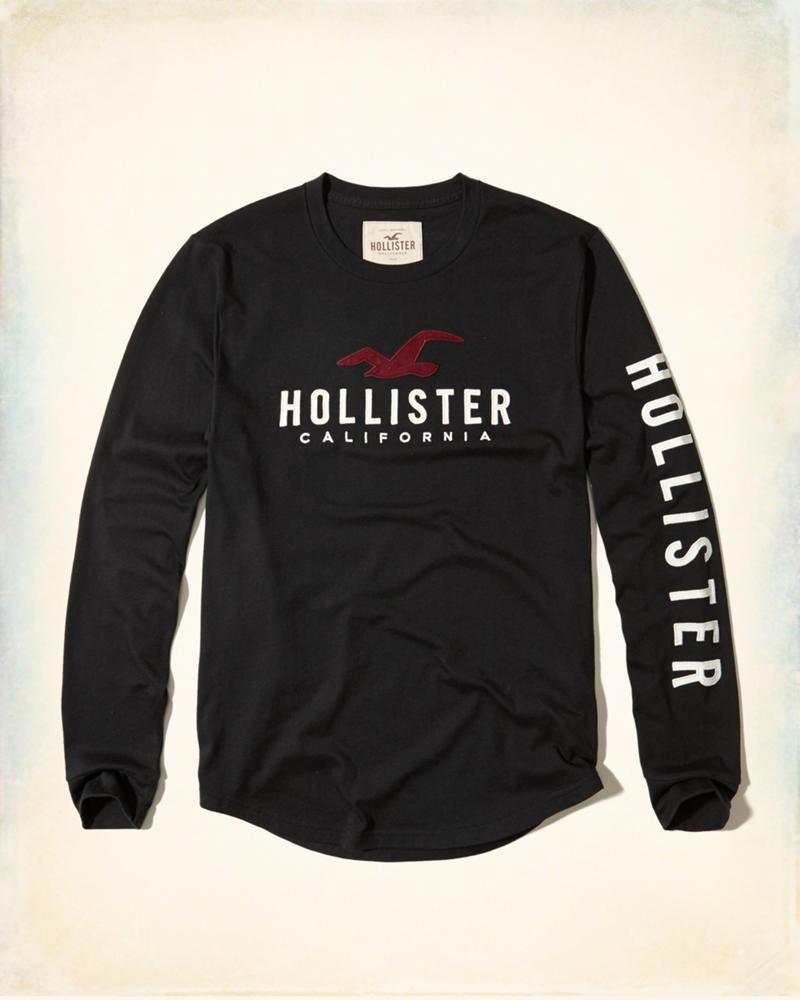teeshirt: (41, 168, 800, 873)
